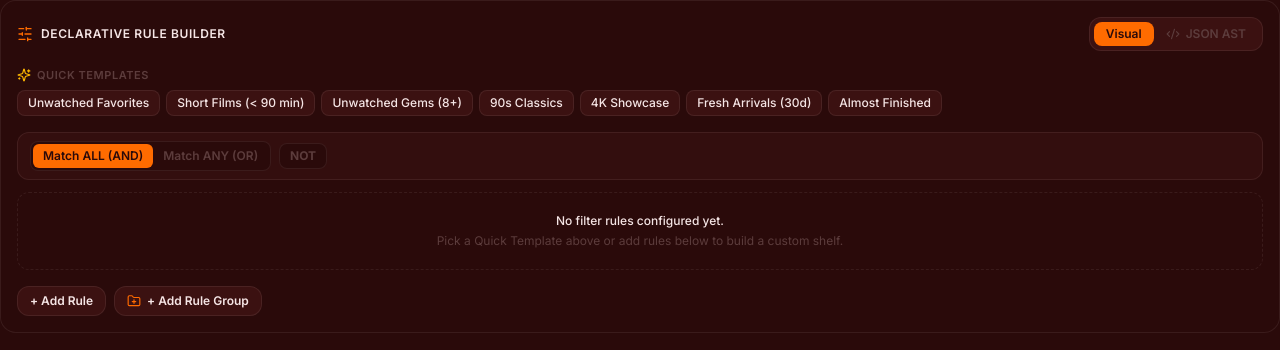
Test: RuleBuilderEditor › supports Is Favorite boolean rule toggle and the "Unwatched Favorites" quick template
Later steps or results of the test are not shown.
Click the button "+ Add Rule".
click(62, 300)  # box [17,286,106,316]
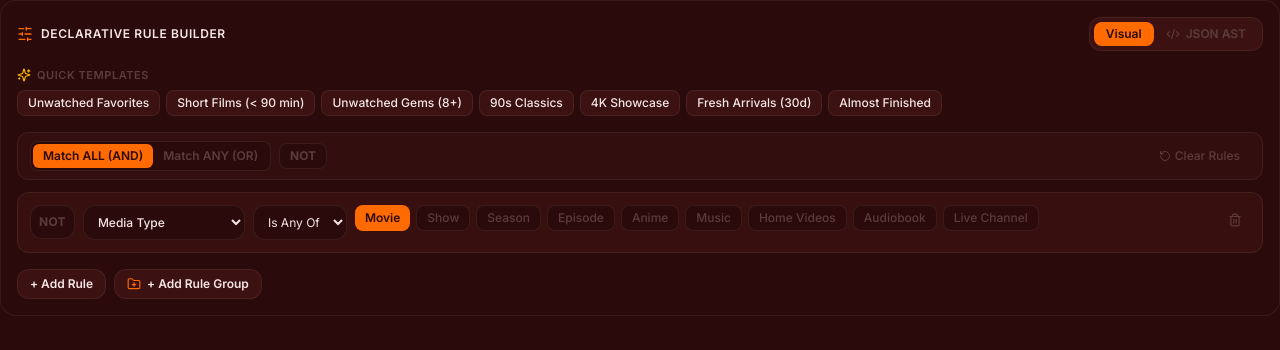
Select "Is Favorite" in the dropdown named "Rule 1 field" at coordinates (164, 222), box [83,204,245,240]
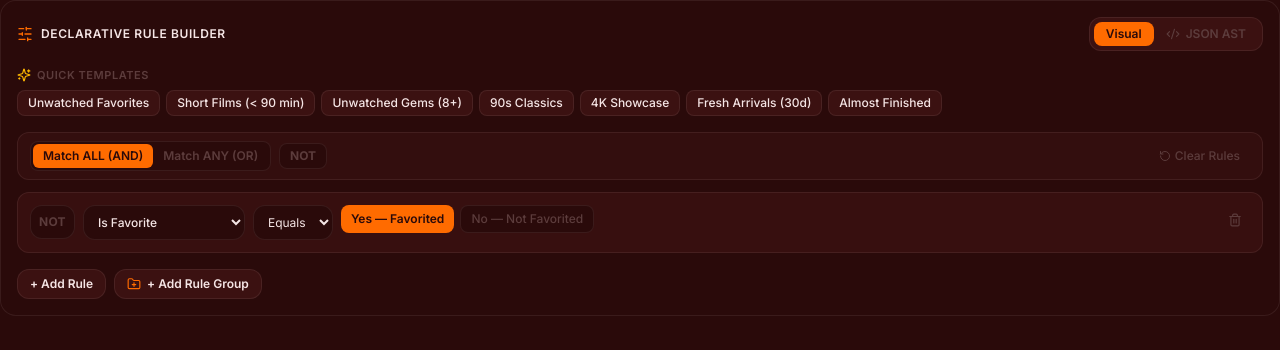
Click the button "No — Not Favorited".
click(527, 218)  # box [460,204,594,232]
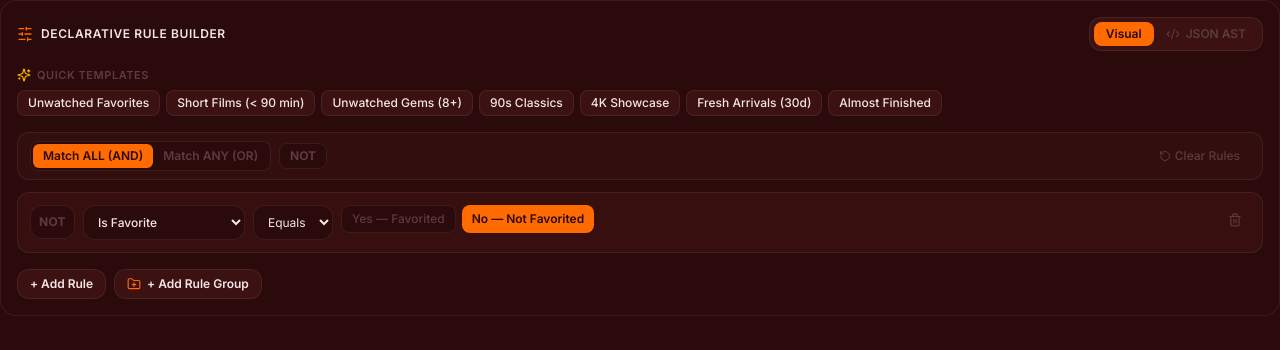
Now the button "No — Not Favorited" is pressed, box [462,204,594,232]
Now the button "Yes — Favorited" is not pressed, box [341,204,456,232]
